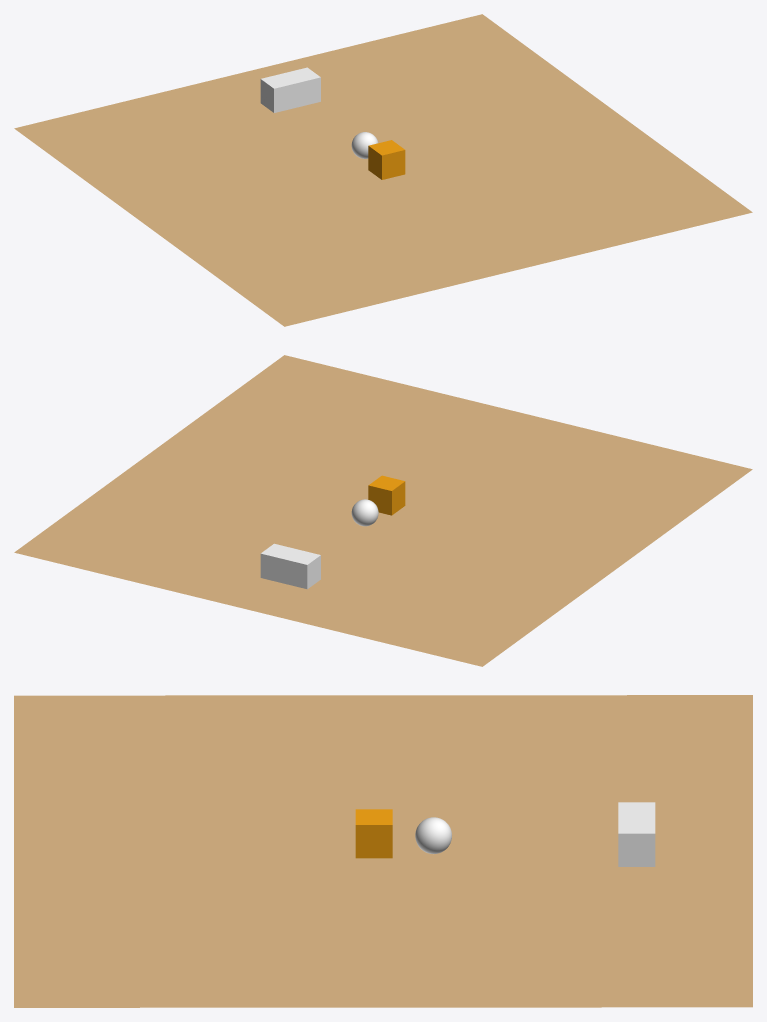
Rendered from main.scene.glb.
The picture shows the model from 3 angles, top to bottom: view 1: azimuth 30°, elevation 25°; view 2: azimuth 150°, elevation 25°; view 3: azimuth 270°, elevation 25°; orthographic projection. The views are drawn at different scales.
Parts seen in each view (by area): view 1: plane, enemy, player; view 2: plane, enemy, player, soldier; view 3: plane, enemy, player, soldier.
Boxes of the visible parts, left/top/right/bottom form: plane: left=14, top=14, right=752, bottom=326; enemy: left=260, top=67, right=320, bottom=112; player: left=368, top=140, right=405, bottom=179; plane: left=14, top=355, right=752, bottom=666; enemy: left=260, top=543, right=320, bottom=589; player: left=368, top=475, right=405, bottom=515; soldier: left=351, top=499, right=378, bottom=526; plane: left=14, top=695, right=752, bottom=1007; enemy: left=618, top=802, right=655, bottom=866; player: left=355, top=809, right=392, bottom=858; soldier: left=415, top=817, right=451, bottom=854.
Bounding box in the file's own units: 20 × 2.03 × 20.
